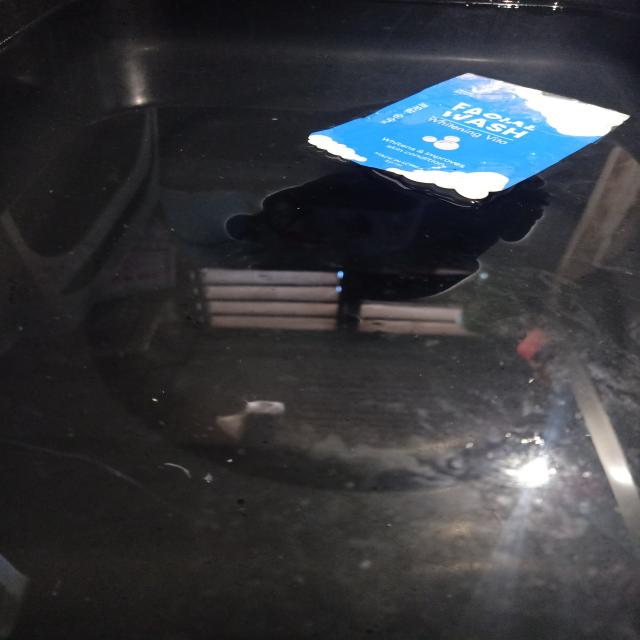Plastic Wrapper: (308, 73, 629, 202)
